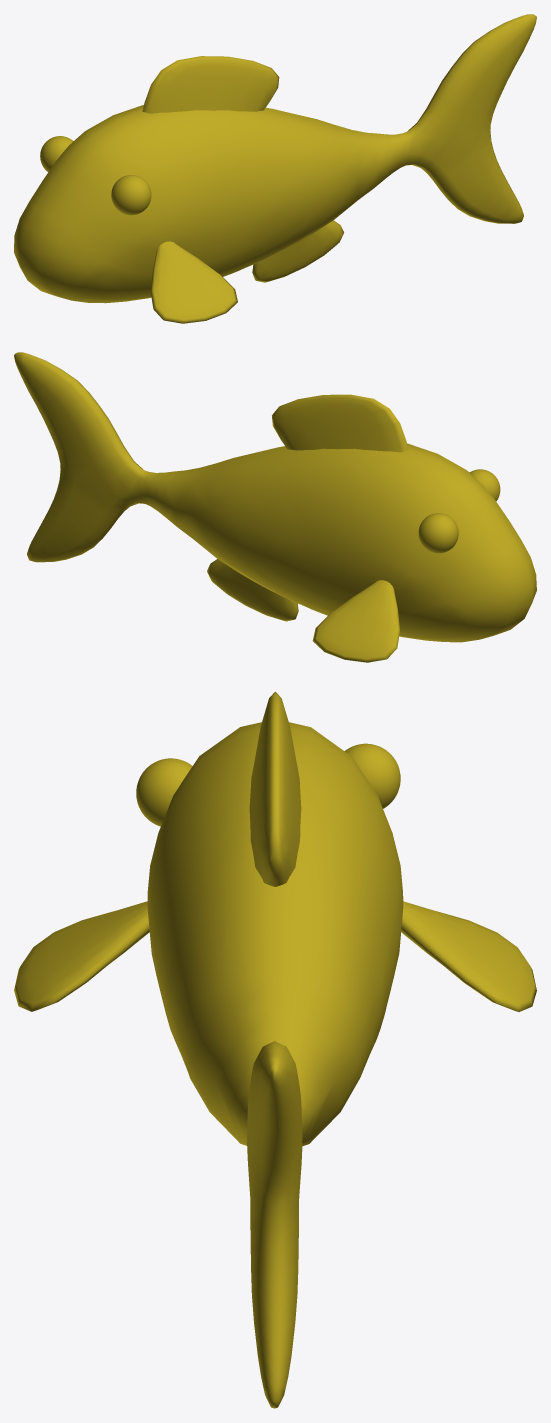
The model's file is poisson3.glb.
3 views of the same model, one above another, from view 1: azimuth 30°, elevation 25°; view 2: azimuth 150°, elevation 25°; view 3: azimuth 270°, elevation 25° (orthographic). The views are drawn at different scales.
Visible parts, largest first — view 1: mesh_id27; view 2: mesh_id27; view 3: mesh_id27.
Boxes of the visible parts, bbox=[...] form: mesh_id27: bbox=[14, 14, 536, 323]; mesh_id27: bbox=[14, 352, 536, 662]; mesh_id27: bbox=[14, 691, 536, 1408].
Bounding box in the file's own units: 0.4389 × 0.1993 × 0.2222.
